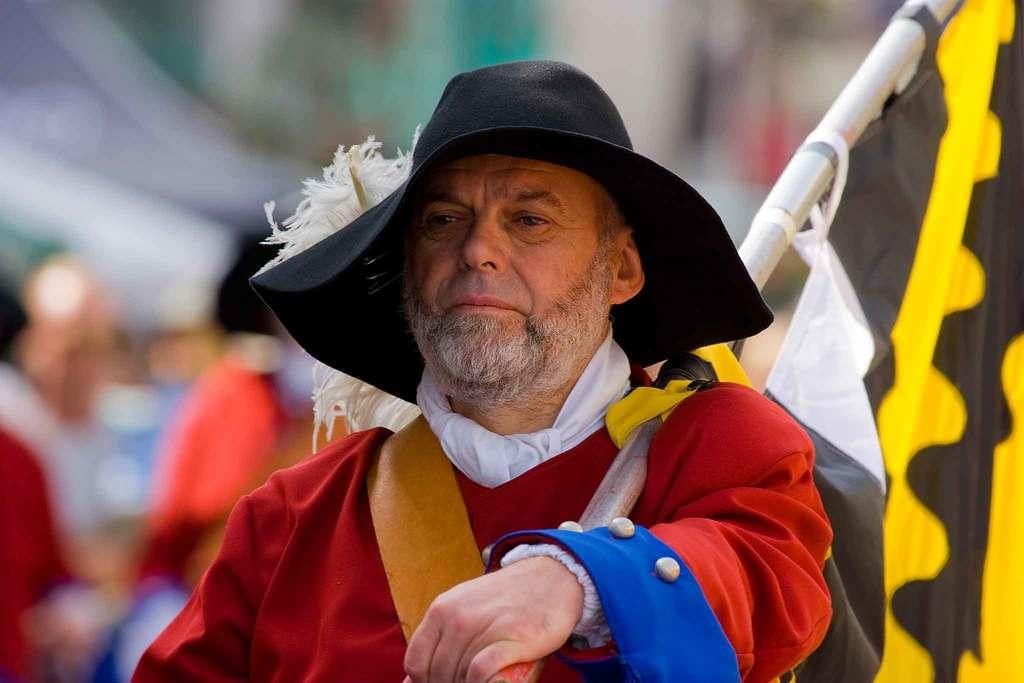Hat: (250, 56, 776, 401)
